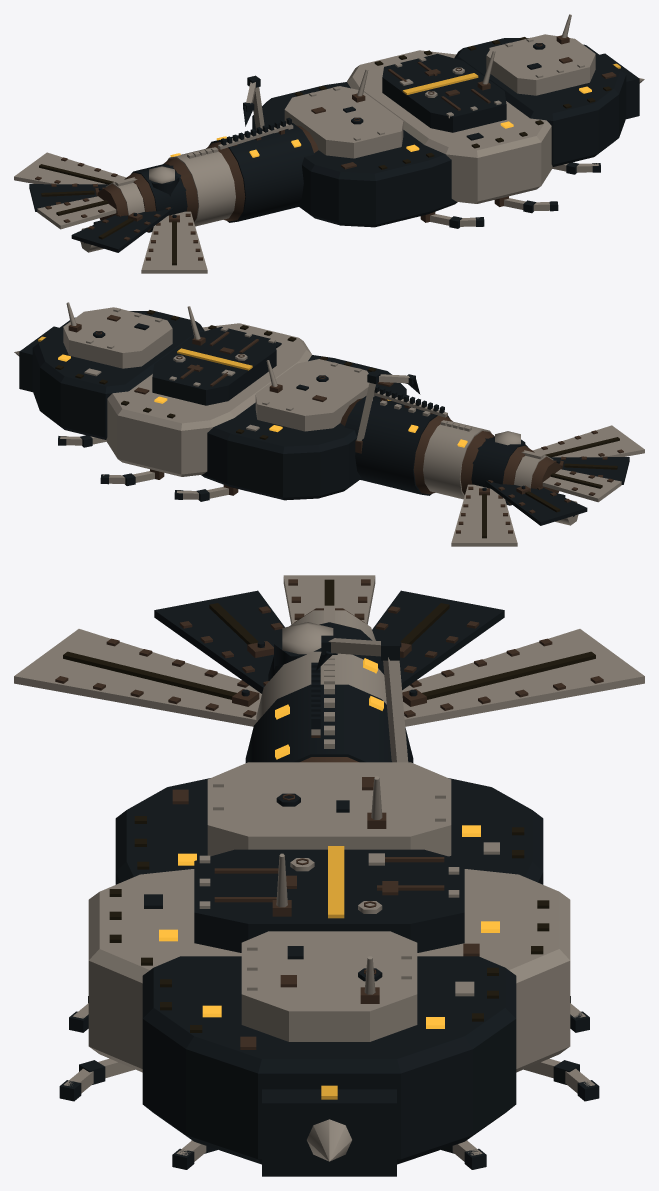
The model's file is lure-bathyarch.glb.
3 views of the same model, one above another, from view 1: azimuth 30°, elevation 25°; view 2: azimuth 150°, elevation 25°; view 3: azimuth 270°, elevation 25° (orthographic). The views are drawn at different scales.
Parts seen in each view (by area): view 1: hull_slab_2, hull_slab_1, hull_slab_0, armour_tier_1, armour_tier_2, can_0, armour_tier_0, can_1, fan_s1_plate, fan_s0_plate, fan_p1_plate, telson_plate (+10 smaller); view 2: hull_slab_2, hull_slab_1, hull_slab_0, armour_tier_1, armour_tier_2, can_0, armour_tier_0, can_1, fan_p1_plate, fan_p0_plate, fan_s1_plate, can_2 (+10 smaller); view 3: hull_slab_0, hull_slab_1, armour_tier_1, armour_tier_2, armour_tier_0, hull_slab_2, bow_block, fan_s1_plate, fan_p1_plate, can_0, fan_s0_plate, fan_p0_plate (+11 smaller).
Boxes of the visible parts, x1=… form: hull_slab_2: x1=252, y1=82, x2=457, y2=227; hull_slab_1: x1=347, y1=50, x2=552, y2=203; hull_slab_0: x1=454, y1=38, x2=626, y2=166; armour_tier_1: x1=382, y1=53, x2=506, y2=132; armour_tier_2: x1=284, y1=86, x2=403, y2=158; can_0: x1=209, y1=123, x2=314, y2=222; armour_tier_0: x1=486, y1=34, x2=595, y2=95; can_1: x1=167, y1=147, x2=235, y2=226; fan_s1_plate: x1=141, y1=211, x2=207, y2=273; fan_s0_plate: x1=71, y1=207, x2=173, y2=252; fan_p1_plate: x1=14, y1=152, x2=126, y2=184; telson_plate: x1=37, y1=196, x2=116, y2=229; hull_slab_2: x1=201, y1=355, x2=406, y2=500; hull_slab_1: x1=106, y1=323, x2=312, y2=476; hull_slab_0: x1=32, y1=311, x2=204, y2=439; armour_tier_1: x1=152, y1=326, x2=276, y2=405; armour_tier_2: x1=255, y1=359, x2=374, y2=431; can_0: x1=344, y1=396, x2=449, y2=495; armour_tier_0: x1=63, y1=307, x2=172, y2=368; can_1: x1=423, y1=420, x2=491, y2=499; fan_p1_plate: x1=451, y1=484, x2=517, y2=546; fan_p0_plate: x1=485, y1=480, x2=587, y2=525; fan_s1_plate: x1=532, y1=425, x2=644, y2=457; can_2: x1=471, y1=436, x2=528, y2=505; hull_slab_0: x1=142, y1=956, x2=516, y2=1164; hull_slab_1: x1=88, y1=869, x2=570, y2=1072; armour_tier_1: x1=194, y1=849, x2=464, y2=952; armour_tier_2: x1=207, y1=762, x2=451, y2=856; armour_tier_0: x1=241, y1=931, x2=417, y2=1041; hull_slab_2: x1=115, y1=778, x2=543, y2=884; bow_block: x1=262, y1=1089, x2=396, y2=1176; fan_s1_plate: x1=14, y1=629, x2=261, y2=726; fan_p1_plate: x1=402, y1=629, x2=644, y2=726; can_0: x1=245, y1=684, x2=413, y2=762; fan_s0_plate: x1=154, y1=590, x2=284, y2=693; fan_p0_plate: x1=372, y1=590, x2=504, y2=690.
Size of the model in its own units: 100 by 22.27 by 46.64.
